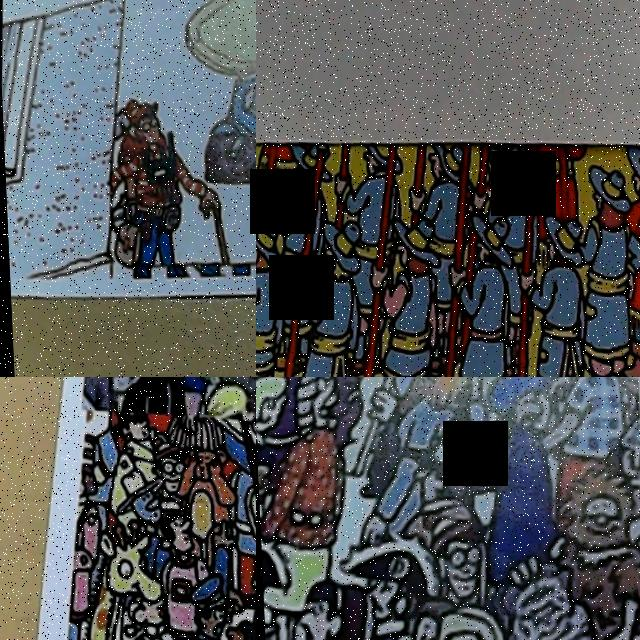waldo: (418, 507, 481, 602), (118, 92, 171, 154), (476, 126, 518, 194), (150, 438, 185, 489)
